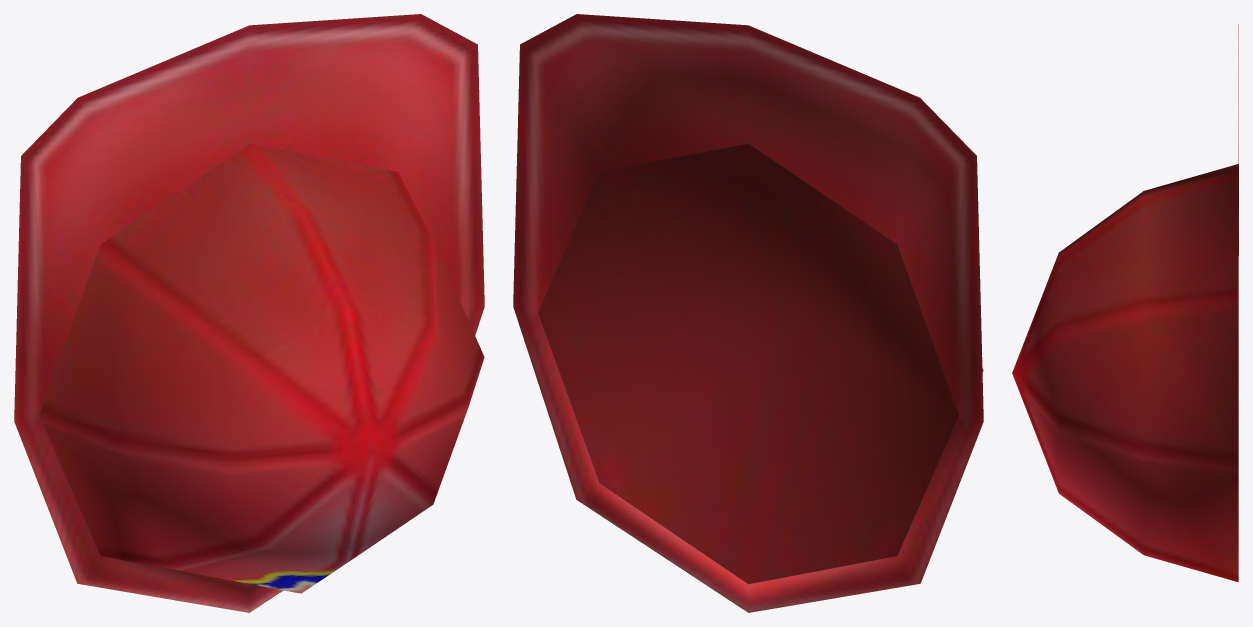
File: tt_m_chr_avt_acc_hat_firefighterHelmet.glb
The picture shows the model from 3 angles, left to right: view 1: azimuth 30°, elevation 25°; view 2: azimuth 150°, elevation 25°; view 3: azimuth 270°, elevation 25°; orthographic projection. The views are drawn at different scales.
Parts seen in each view (by area): view 1: firefighterHelmet; view 2: firefighterHelmet; view 3: firefighterHelmet.
Boxes of the visible parts, <box> form: firefighterHelmet: <box>14,14,484,612</box>; firefighterHelmet: <box>513,14,983,612</box>; firefighterHelmet: <box>1012,24,1238,582</box>.
Size of the model in its own units: 4.21 by 5.02 by 1.92.
Materials: 1 (1 with a texture image).
